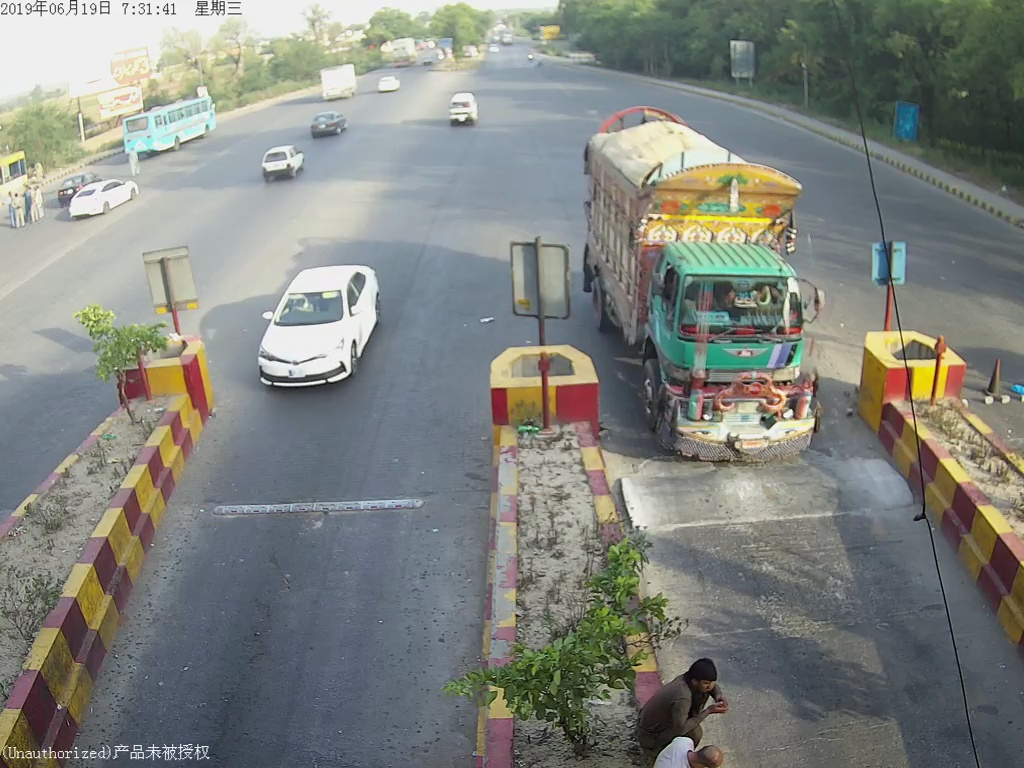Cat-1: (585, 102, 836, 471), (249, 261, 397, 400), (437, 86, 482, 132)
